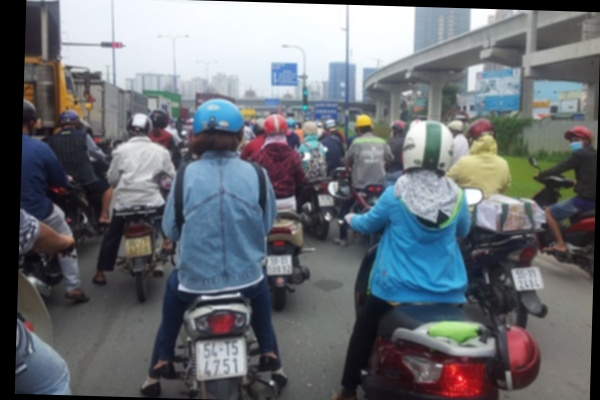Bien-so: (185, 336, 244, 385), (516, 257, 550, 283), (112, 237, 141, 262), (259, 252, 288, 274), (310, 189, 331, 204)
